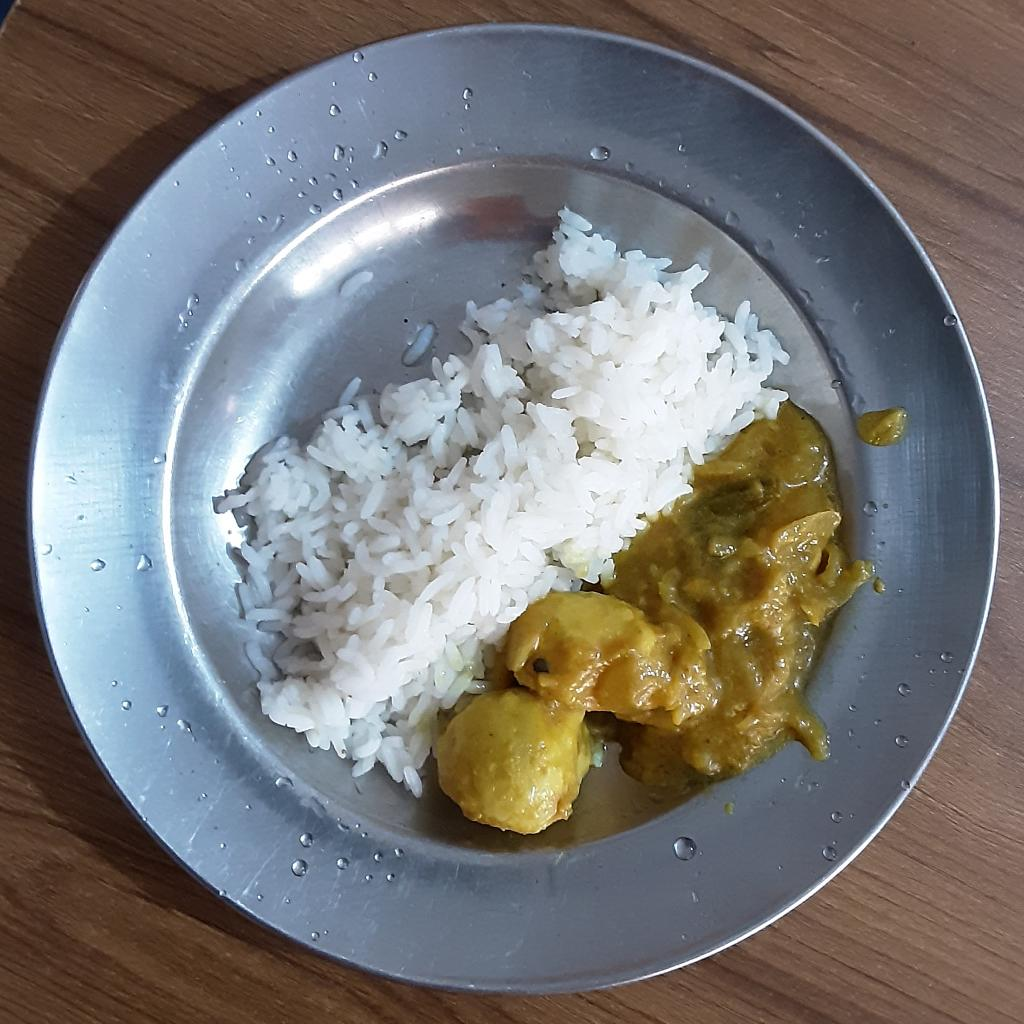kochu: (437, 403, 864, 833)
rice: (210, 207, 791, 799)
